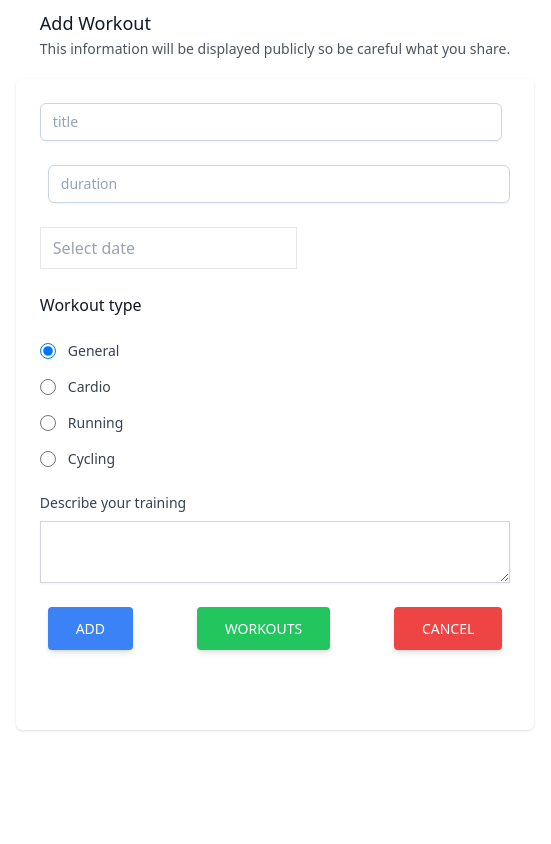
Test: AddWorkout › tests for form fields validation › should display required error when title value is shorter than 5 letters
Type "1234" into the field with placeholder "title" at (271, 122), box [40, 103, 502, 141]
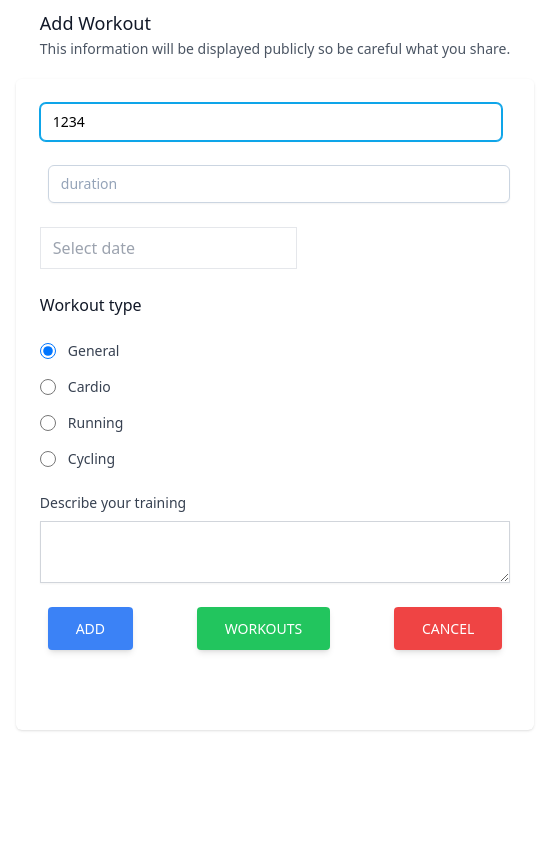
Submit the form from the button "Add", box [48, 607, 133, 650]
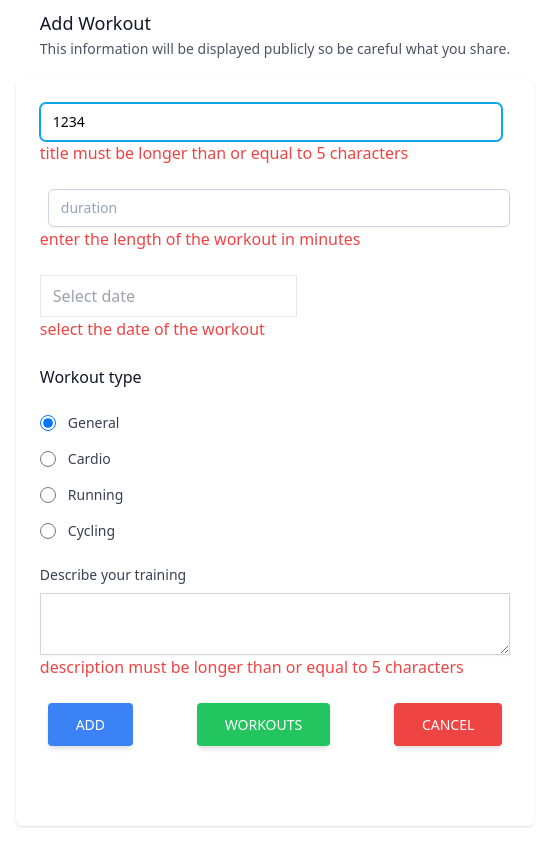
expect the text "title must be longer" is shown: met, box [40, 142, 408, 164]
